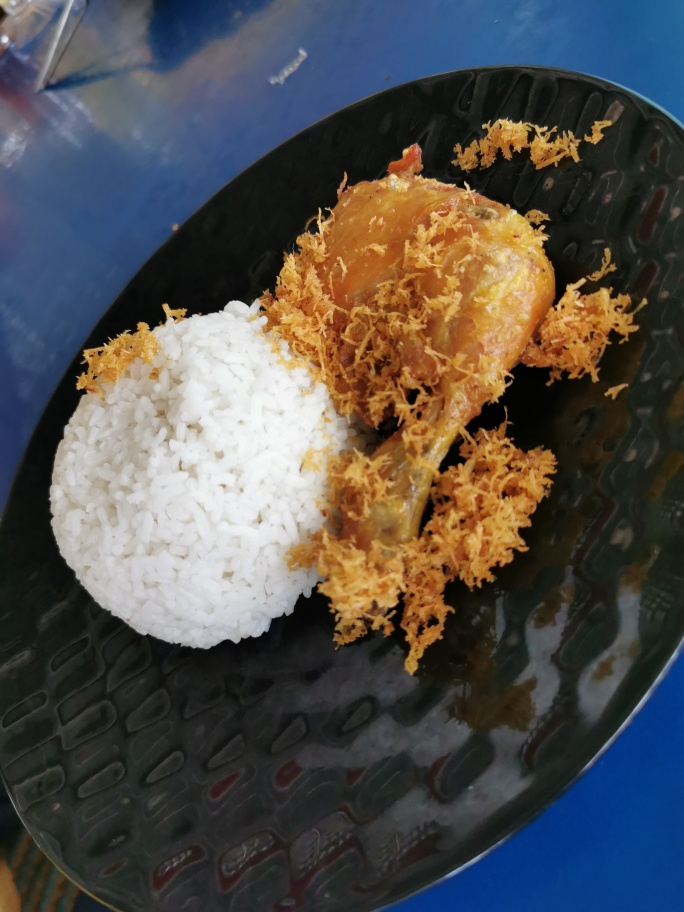ayam goreng: (272, 138, 574, 647)
nasi putih: (46, 286, 371, 663)
